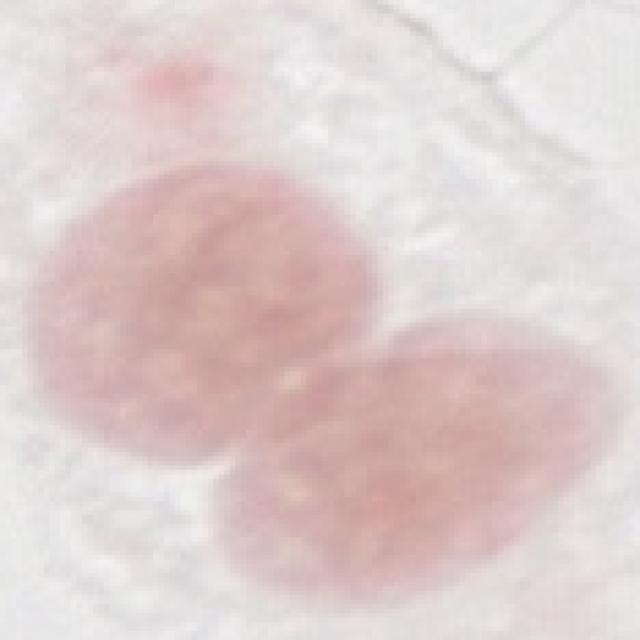cytoplasm: (0, 0, 635, 636)
nucleus: (0, 72, 424, 527)
